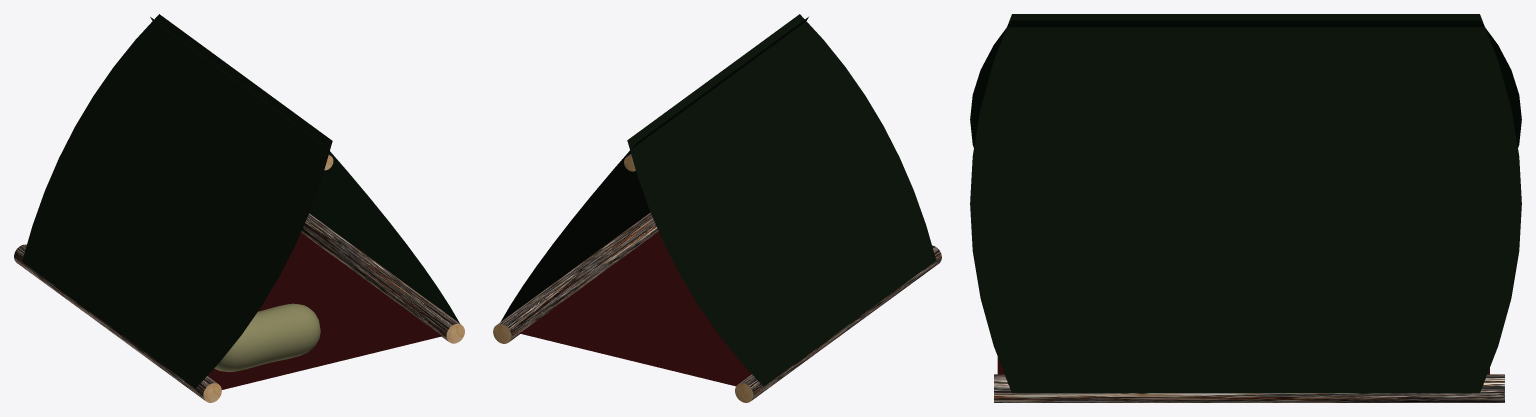
The model's file is tent.obj.
3 renders of one model, left to right at view 1: azimuth 30°, elevation 25°; view 2: azimuth 150°, elevation 25°; view 3: azimuth 270°, elevation 25°, orthographic. The views are drawn at different scales.
Visible parts, largest first — view 1: Plane, Plane.002, Plane.001, Sphere, Cylinder.001, Cylinder; view 2: Plane, Plane.002, Plane.001, Cylinder.001, Cylinder; view 3: Plane.001, Cylinder.001, Plane.
Boxes of the visible parts, left/top/right/bottom form: Plane: left=22, top=14, right=332, bottom=388; Plane.002: left=207, top=233, right=442, bottom=389; Plane.001: left=150, top=17, right=459, bottom=323; Sphere: left=214, top=303, right=320, bottom=372; Cylinder.001: left=301, top=213, right=460, bottom=341; Cylinder: left=14, top=244, right=217, bottom=400; Plane: left=627, top=14, right=936, bottom=386; Plane.002: left=519, top=231, right=751, bottom=386; Plane.001: left=500, top=17, right=808, bottom=321; Cylinder.001: left=497, top=212, right=658, bottom=341; Cylinder: left=739, top=245, right=941, bottom=400; Plane.001: left=970, top=14, right=1521, bottom=393; Cylinder.001: left=994, top=374, right=1504, bottom=402; Plane: left=970, top=20, right=1521, bottom=147.
Bounding box in the file's own units: 1.76 × 1.44 × 2.36.
5 materials, 2 textured.
